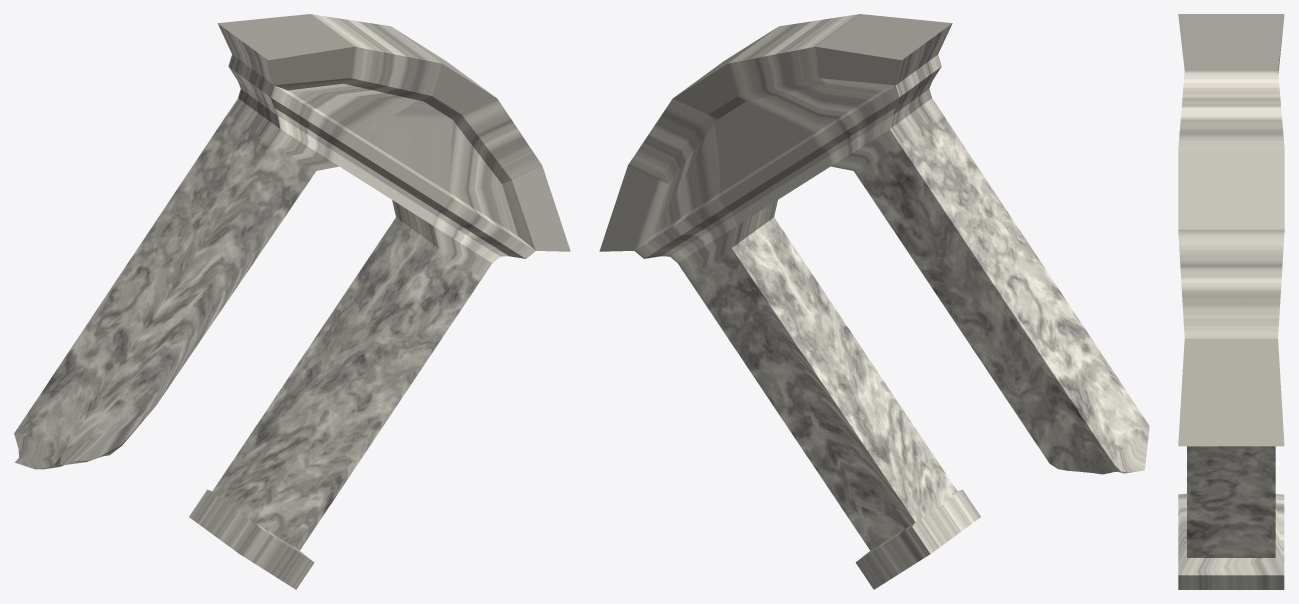
File: arch_mndr(1dwadwadadw).fbx
3 renders of one model, left to right at view 1: azimuth 30°, elevation 25°; view 2: azimuth 150°, elevation 25°; view 3: azimuth 270°, elevation 25°, orthographic. The views are drawn at different scales.
Visible parts, largest first — view 1: Cube.001; view 2: Cube.001; view 3: Cube.001.
Boxes of the visible parts, <box> form: Cube.001: <box>14,14,570,589</box>; Cube.001: <box>599,14,1149,589</box>; Cube.001: <box>1178,14,1284,589</box>.
Bounding box in the file's own units: 1435 × 1400 × 241.
1 material, 1 textured.
